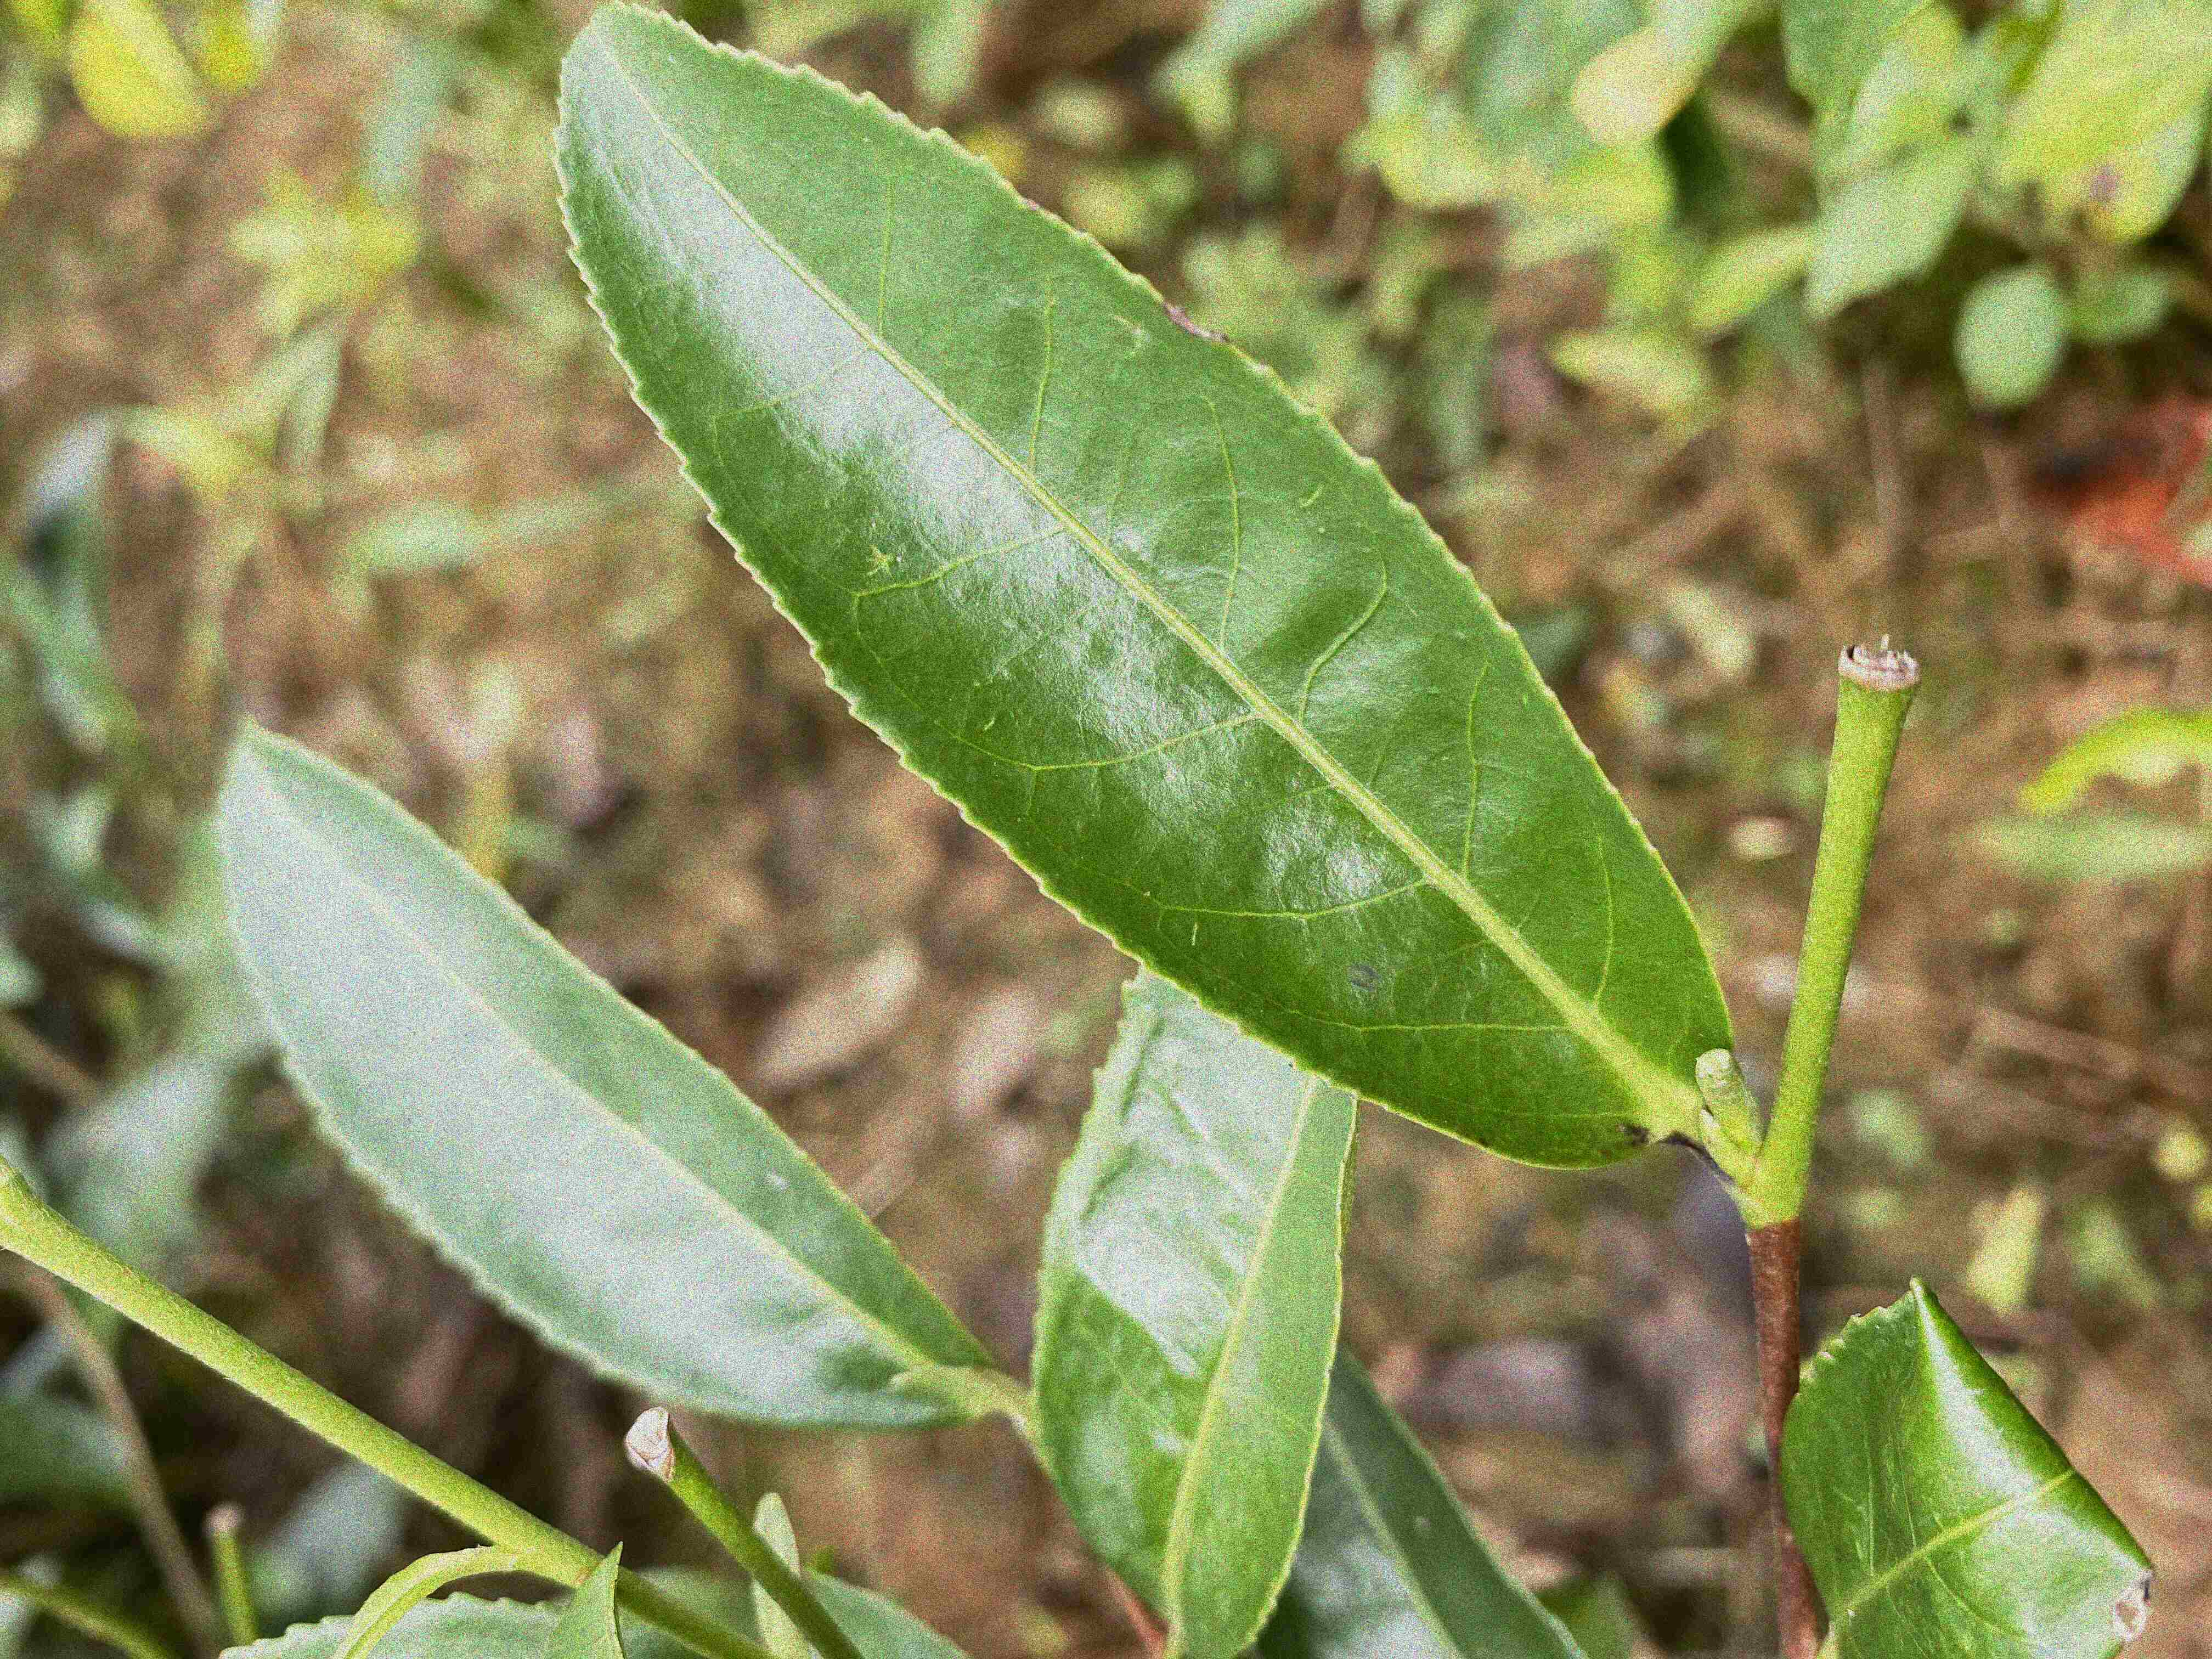healthy: (1028, 962, 1359, 1657)
tanju_low: (550, 0, 1738, 1166), (1778, 1276, 2161, 1657)
